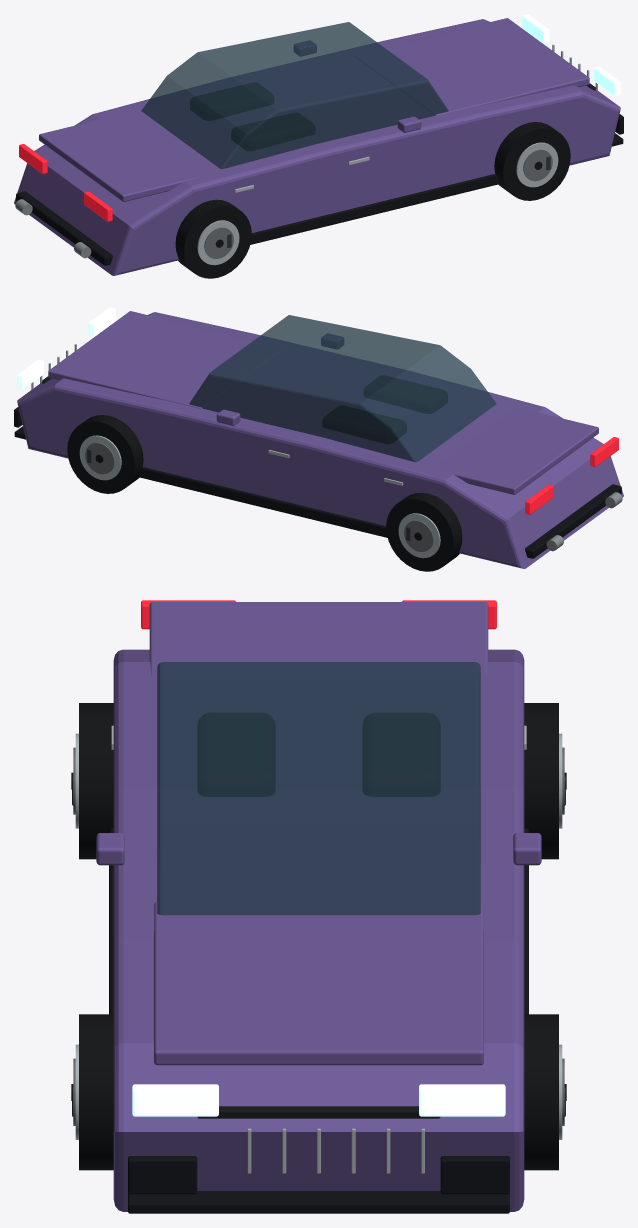
File: rr_amethyst_droptail.glb
3 views of the same model, one above another, from view 1: azimuth 30°, elevation 25°; view 2: azimuth 150°, elevation 25°; view 3: azimuth 270°, elevation 25° (orthographic). The views are drawn at different scales.
Parts seen in each view (by area): view 1: sculpted_body, glasshouse, hood_center, rear_deck, rear_right_wheel_tire, front_right_wheel_tire, side_skirt_1, seat_-1, seat_1, rear_diffuser, front_right_wheel_rim, rear_right_wheel_rim (+6 smaller); view 2: sculpted_body, glasshouse, hood_center, rear_deck, rear_left_wheel_tire, front_left_wheel_tire, side_skirt_-1, seat_1, seat_-1, rear_diffuser, front_left_wheel_rim, rear_left_wheel_rim (+6 smaller); view 3: sculpted_body, glasshouse, hood_center, rear_deck, front_splitter, seat_-1, seat_1, front_left_wheel_tire, front_right_wheel_tire, rear_left_wheel_tire, rear_right_wheel_tire, headlight_left (+6 smaller).
Boxes of the visible parts, bbox=[...] form: sculpted_body: bbox=[14, 19, 620, 275]; glasshouse: bbox=[141, 22, 448, 169]; hood_center: bbox=[355, 18, 589, 115]; rear_deck: bbox=[39, 114, 203, 201]; rear_right_wheel_tire: bbox=[175, 199, 251, 278]; front_right_wheel_tire: bbox=[494, 122, 570, 200]; side_skirt_1: bbox=[250, 174, 499, 244]; seat_-1: bbox=[190, 83, 273, 120]; seat_1: bbox=[231, 113, 314, 150]; rear_diffuser: bbox=[16, 191, 112, 265]; front_right_wheel_rim: bbox=[516, 142, 558, 187]; rear_right_wheel_rim: bbox=[197, 220, 239, 265]; sculpted_body: bbox=[17, 312, 623, 568]; glasshouse: bbox=[189, 315, 496, 462]; hood_center: bbox=[48, 311, 282, 408]; rear_deck: bbox=[434, 407, 598, 494]; rear_left_wheel_tire: bbox=[386, 492, 462, 571]; front_left_wheel_tire: bbox=[67, 415, 143, 493]; side_skirt_-1: bbox=[138, 467, 387, 537]; seat_1: bbox=[364, 376, 447, 413]; seat_-1: bbox=[323, 406, 406, 443]; rear_diffuser: bbox=[525, 484, 621, 558]; front_left_wheel_rim: bbox=[79, 435, 121, 480]; rear_left_wheel_rim: bbox=[398, 513, 440, 558]; sculpted_body: bbox=[113, 649, 524, 1211]; glasshouse: bbox=[157, 662, 480, 915]; hood_center: bbox=[154, 902, 483, 1065]; rear_deck: bbox=[149, 602, 488, 680]; front_splitter: bbox=[128, 1191, 509, 1213]; seat_-1: bbox=[363, 713, 439, 796]; seat_1: bbox=[198, 713, 274, 796]; front_left_wheel_tire: bbox=[524, 1014, 558, 1170]; front_right_wheel_tire: bbox=[79, 1014, 113, 1170]; rear_left_wheel_tire: bbox=[524, 703, 558, 859]; rear_right_wheel_tire: bbox=[79, 703, 113, 859]; headlight_left: bbox=[419, 1084, 505, 1116].
Size of the model in its own units: 5.66 by 1.36 by 2.28.
